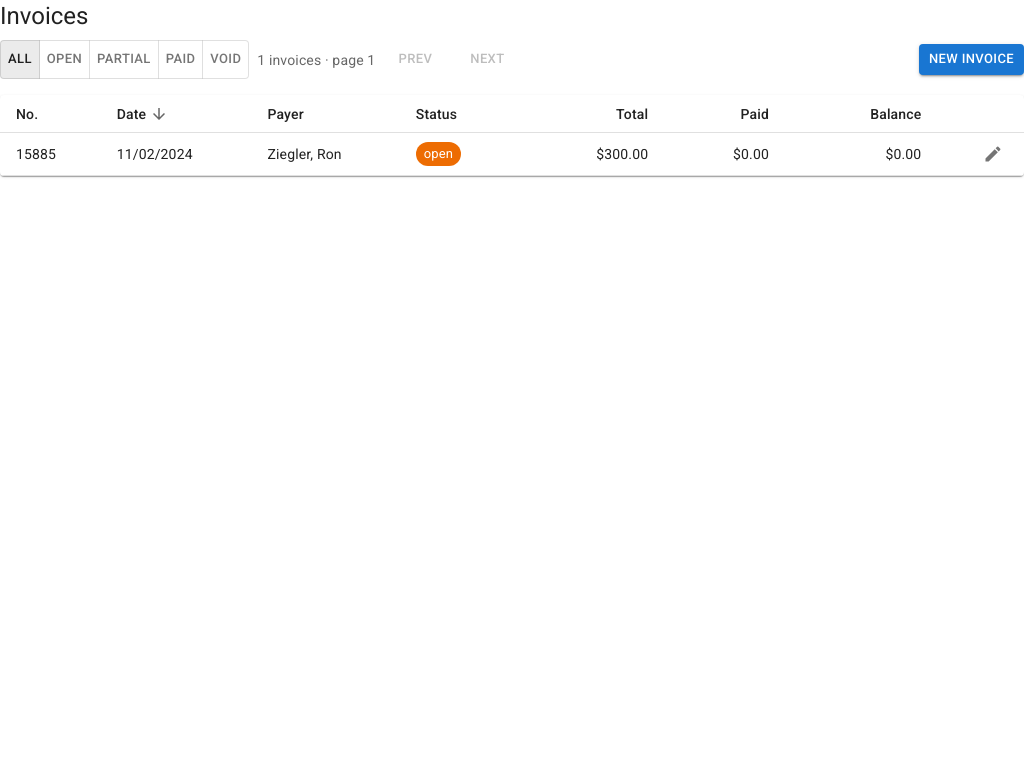
Scenario: T-BIL-05: adjusting from the book › a refusal from the server arrives with the server’s own words
Click the text "Ziegler, Ron" at coordinates (326, 154), box left=252, top=133, right=400, bottom=176
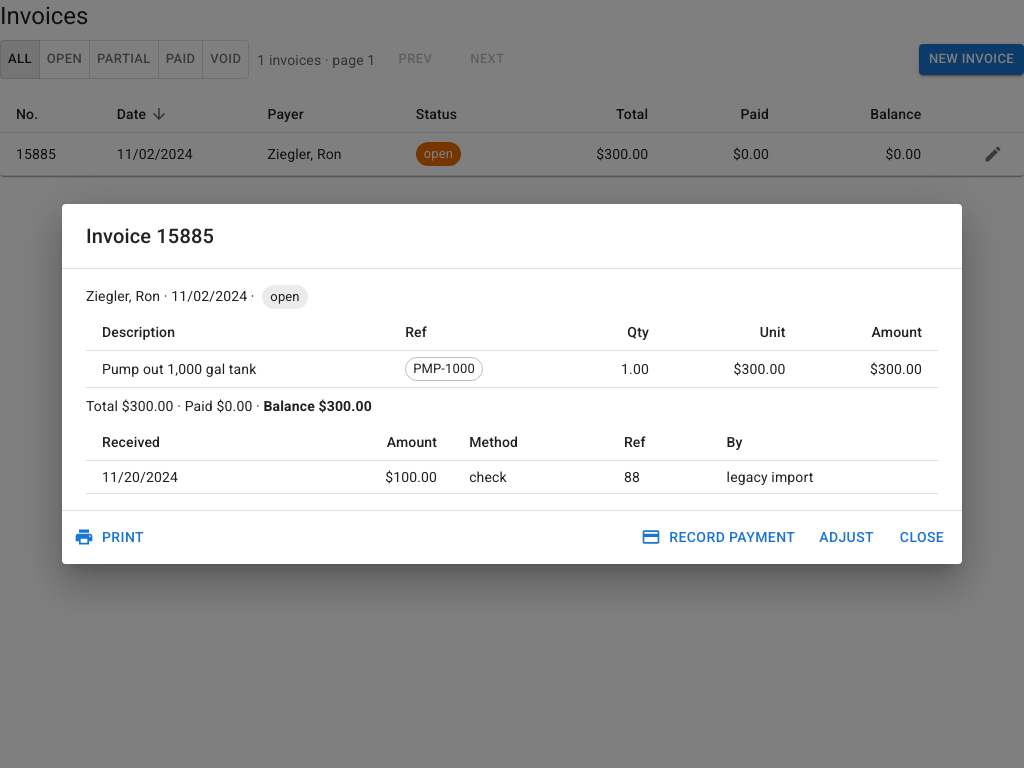
Click the button "Adjust" at coordinates (847, 537), box left=811, top=519, right=882, bottom=556
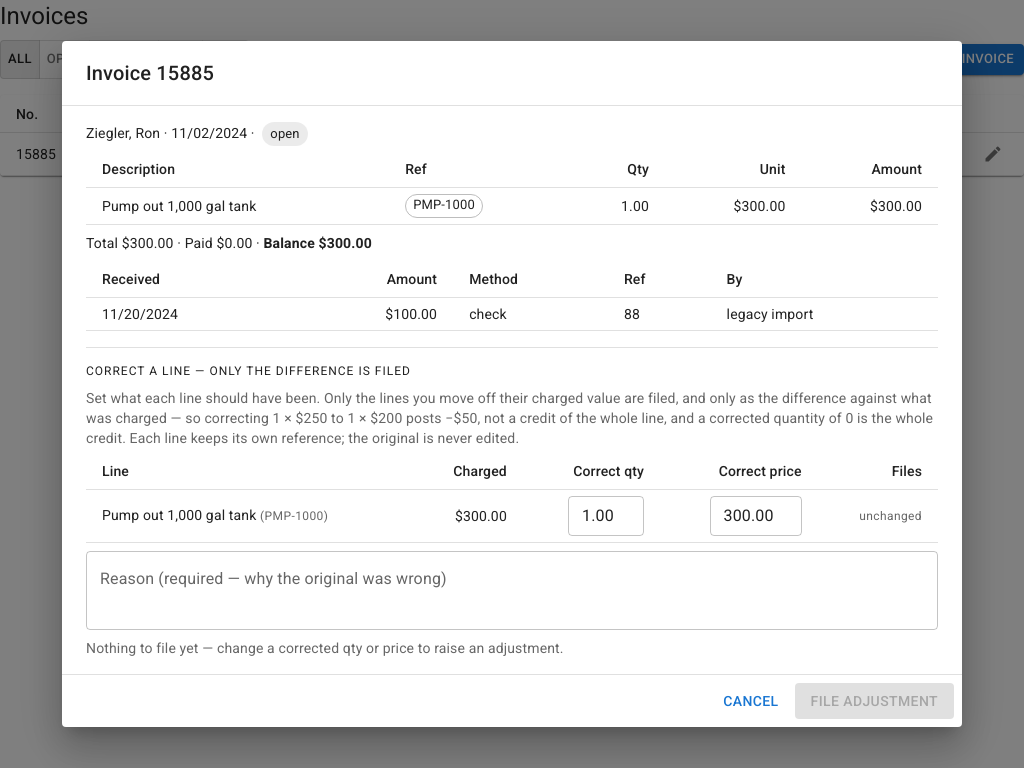
Clear the field named "correct price 1" at coordinates (756, 516), box left=710, top=496, right=802, bottom=536
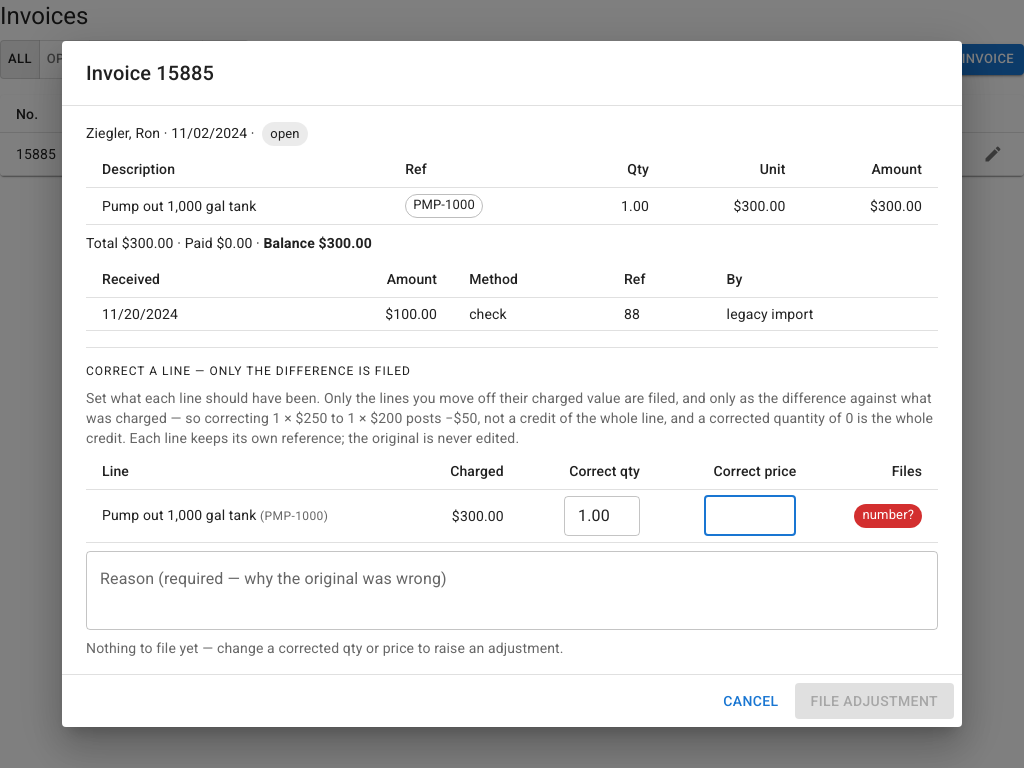
Type "250" into the field named "correct price 1" at coordinates (750, 516), box left=704, top=496, right=796, bottom=536
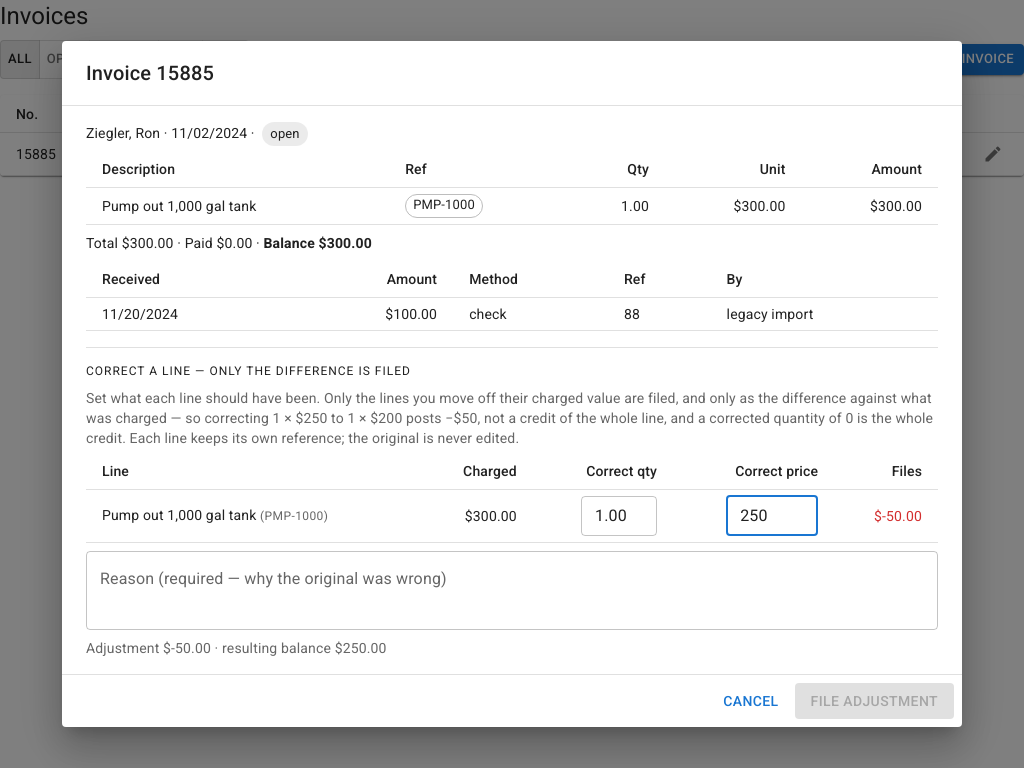
Type "correcting the double" into the text box named "adjustment reason" at coordinates (512, 590), box left=100, top=567, right=924, bottom=613
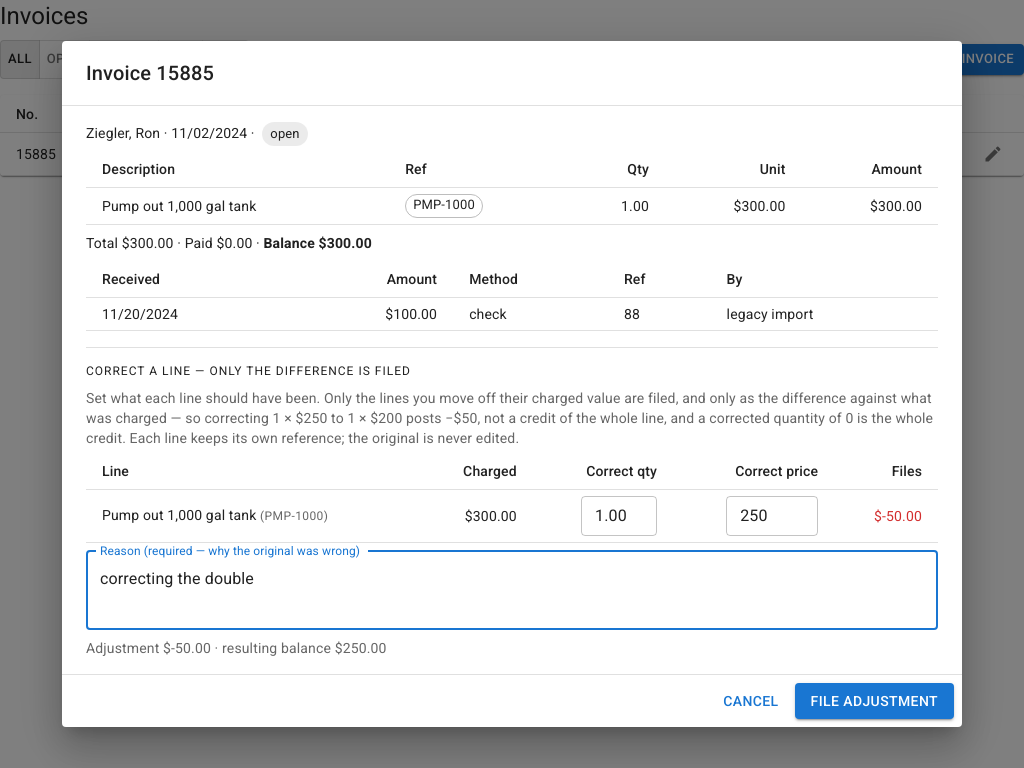
Click the button "File adjustment" at coordinates (874, 701), box left=795, top=683, right=954, bottom=719
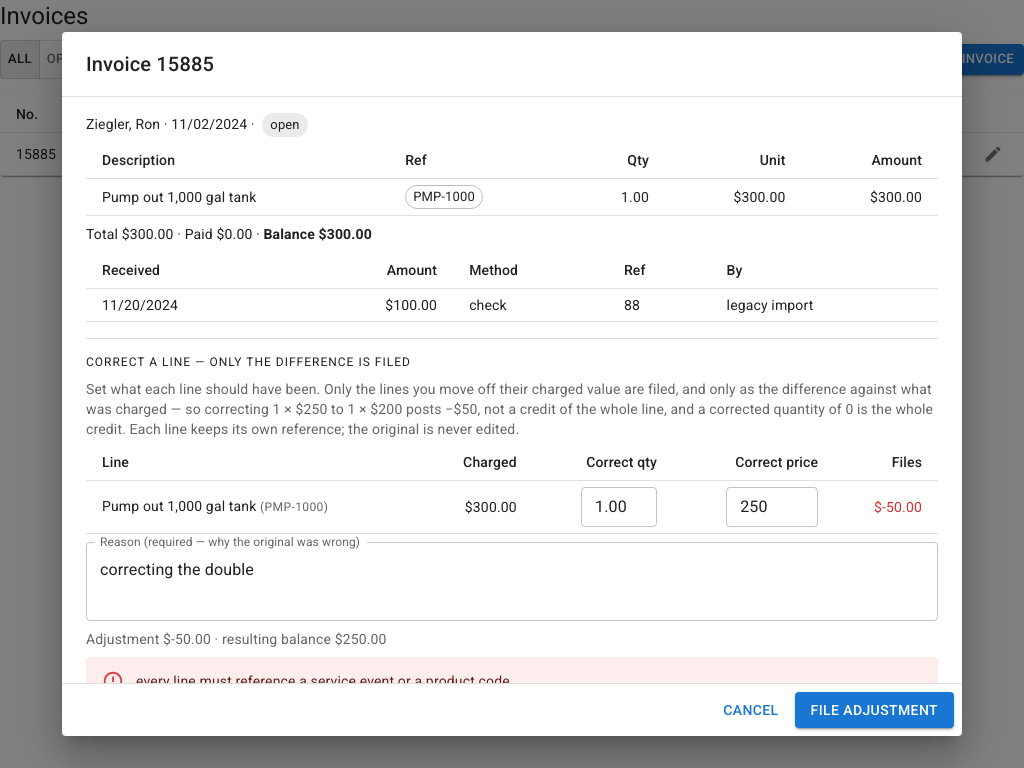
Now the text "every line must reference a service event or a product code" is shown, box left=136, top=673, right=510, bottom=684
